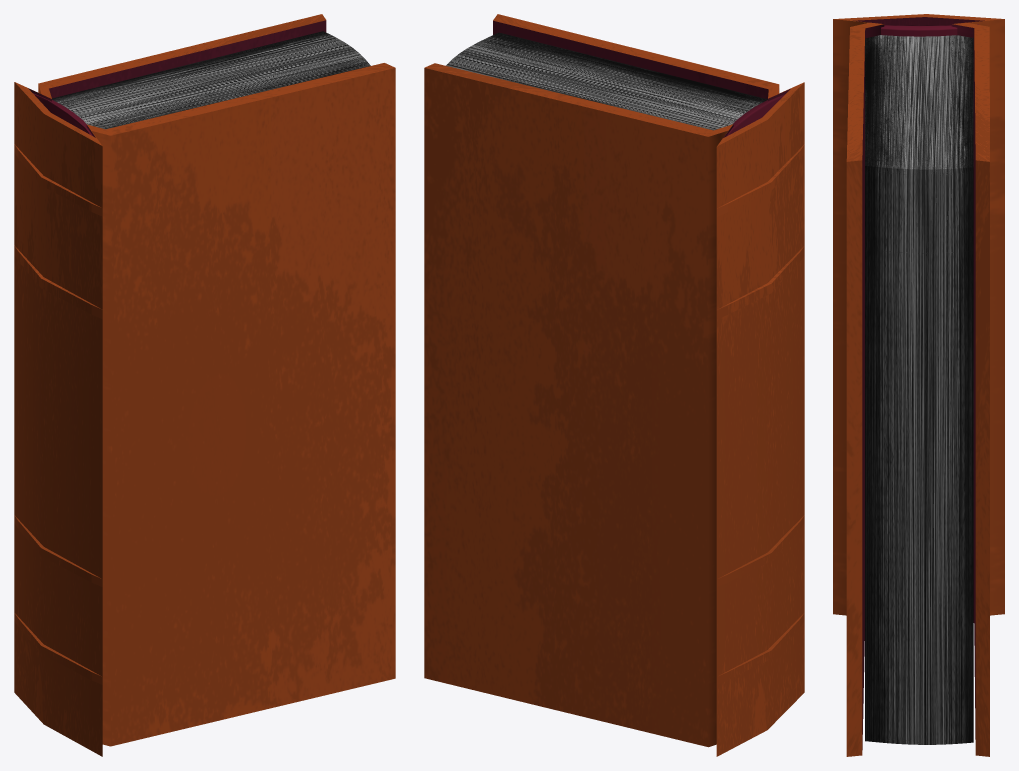
The model's file is book05.fbx.
The picture shows the model from 3 angles, left to right: view 1: azimuth 30°, elevation 25°; view 2: azimuth 150°, elevation 25°; view 3: azimuth 270°, elevation 25°; orthographic projection. The views are drawn at different scales.
Visible parts, largest first — view 1: pCube15, pages8; view 2: pCube15, pages8; view 3: pages8, pCube15, spine7.
Part boxes in pixels (x1,y1,x2,y2): pCube15: (14, 14, 395, 756); pages8: (52, 31, 370, 129); pCube15: (424, 14, 804, 756); pages8: (446, 32, 767, 130); pages8: (865, 35, 973, 744); pCube15: (833, 14, 1004, 756); spine7: (881, 24, 978, 36).
Size of the model in its own units: 0.4558 by 0.8461 by 0.2215.
